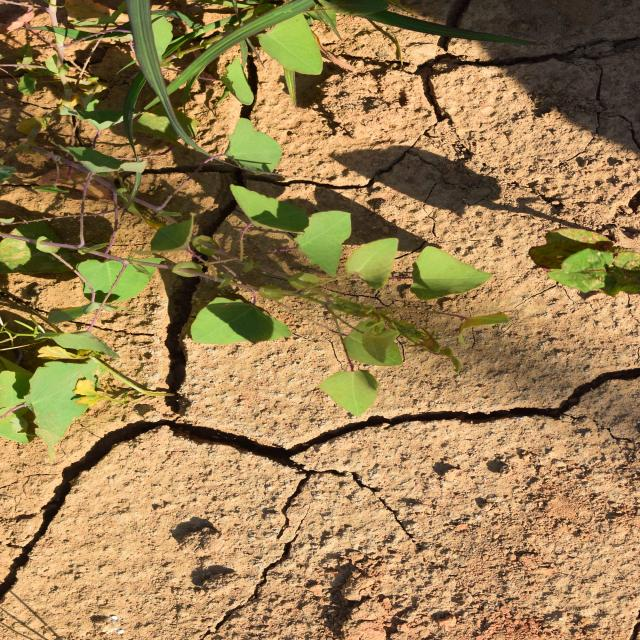Asiatic_Smartweed: (237, 188, 427, 472), (438, 209, 525, 288)
